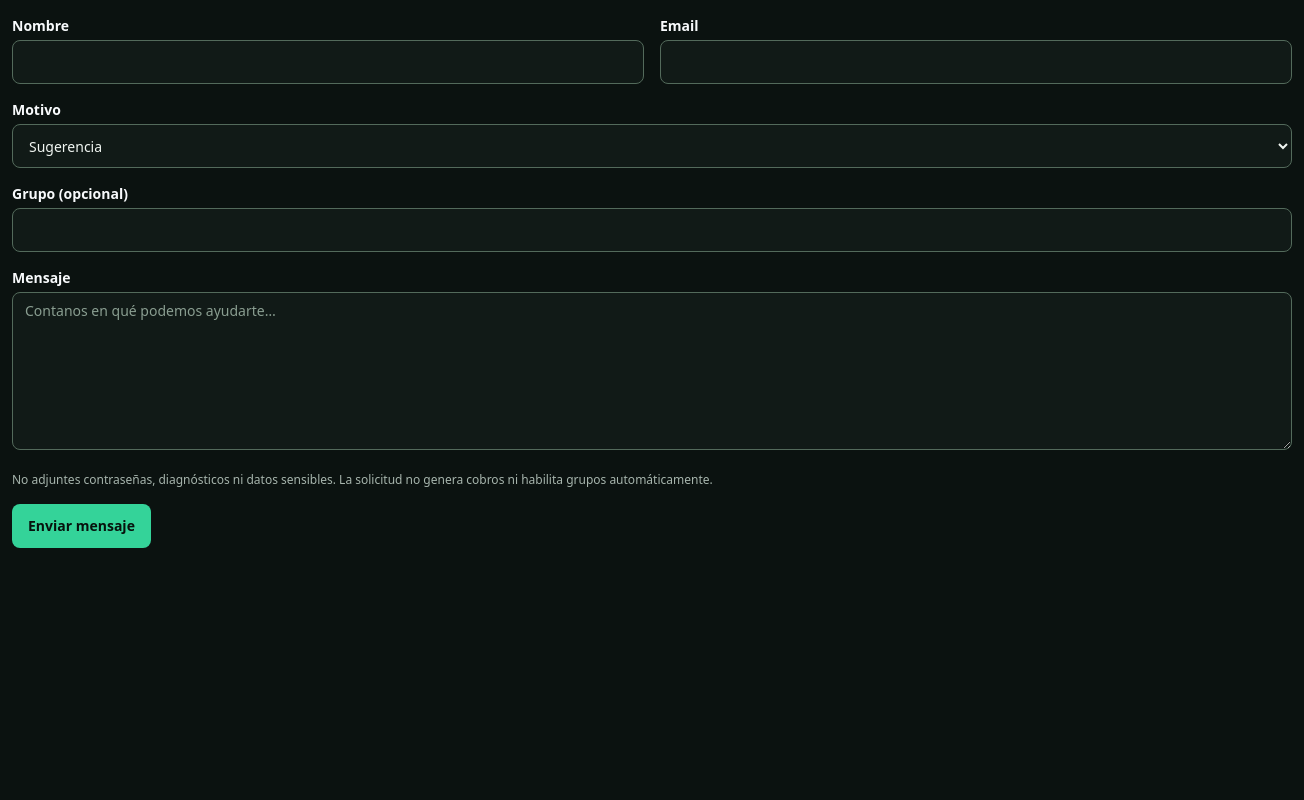
Test: formulario de Contacto › asocia el error del servidor al campo y permite corregirlo
The width and height of the screenshot is (1304, 800).
Type "A" into the field labelled "Nombre" at (328, 62), box [12, 40, 644, 84]
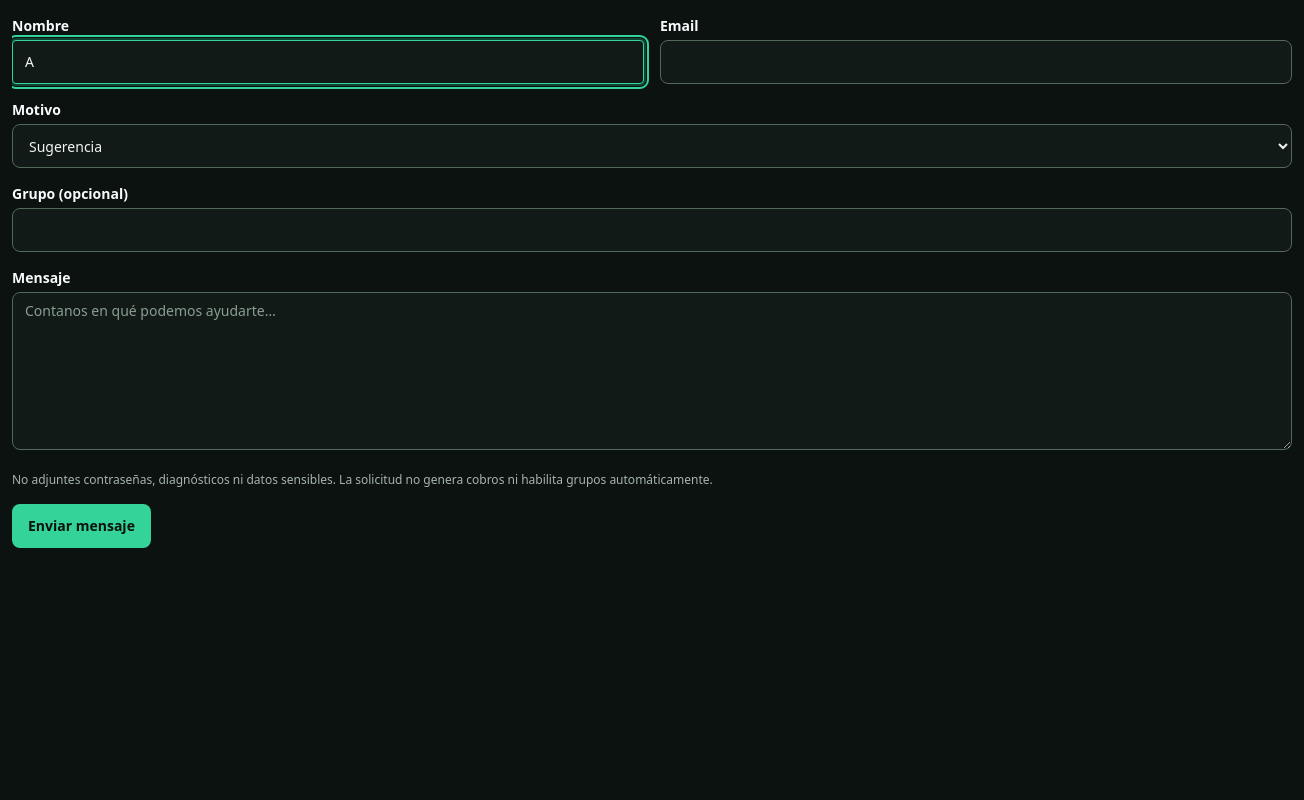
Type "ana@example.test" into the field labelled "Email" at (976, 62), box [660, 40, 1292, 84]
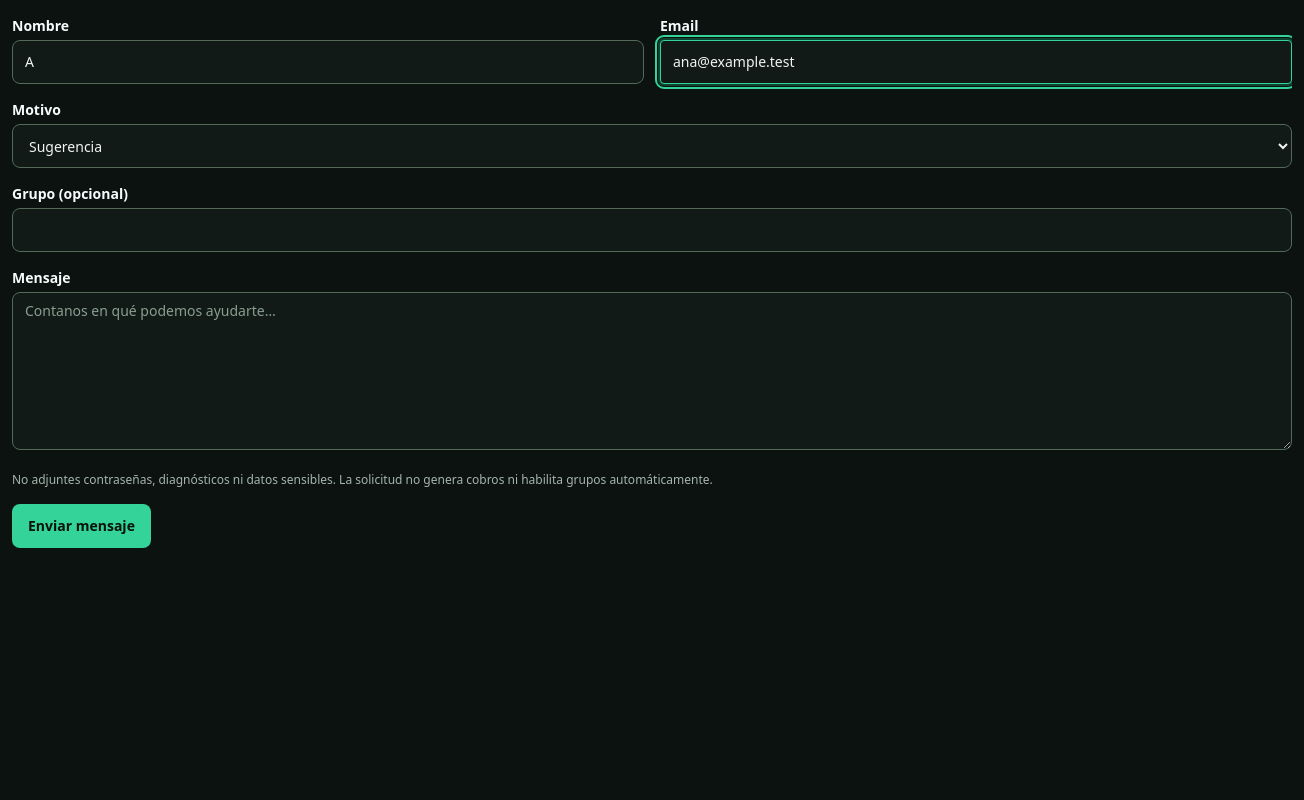
Type "Quiero hacer una consulta." into the text box labelled "Mensaje" at (652, 371), box [12, 292, 1292, 450]
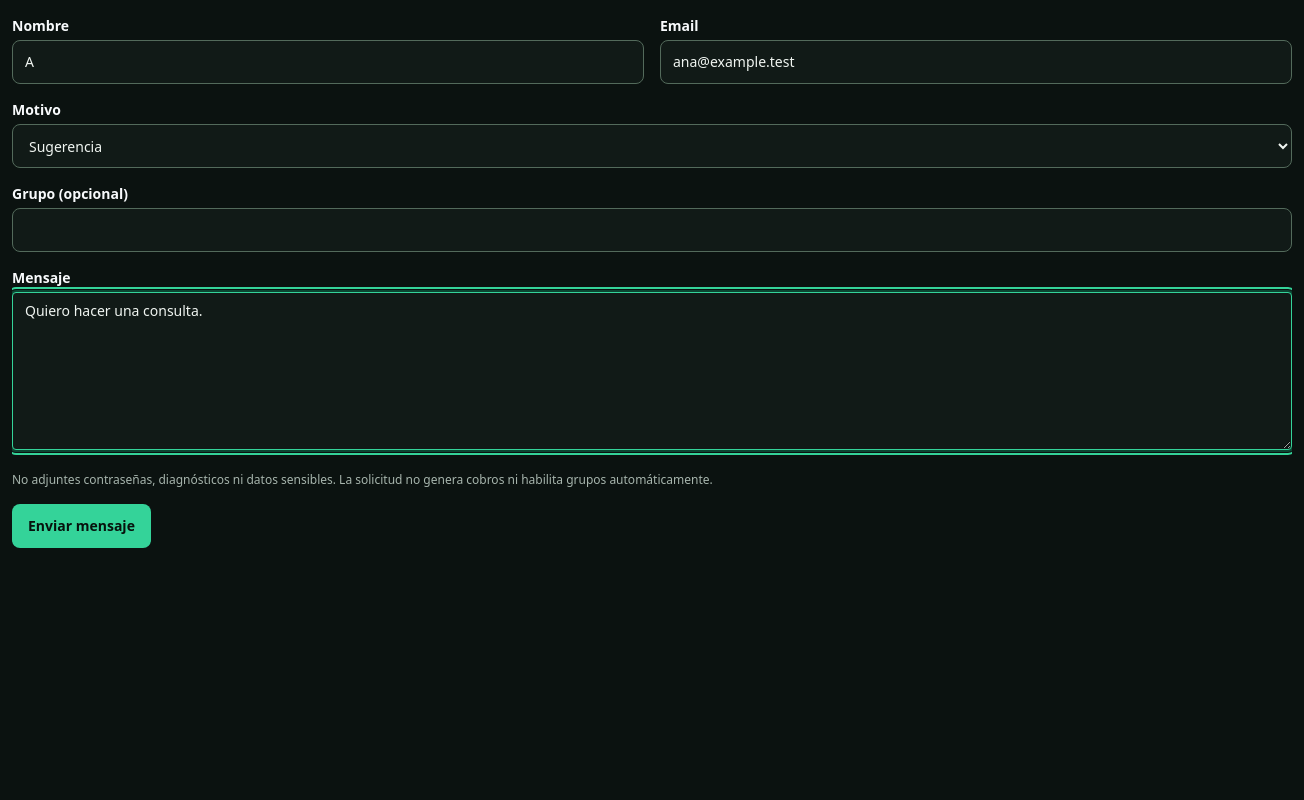
Click the button "Enviar mensaje" at (81, 526), box [12, 504, 151, 548]
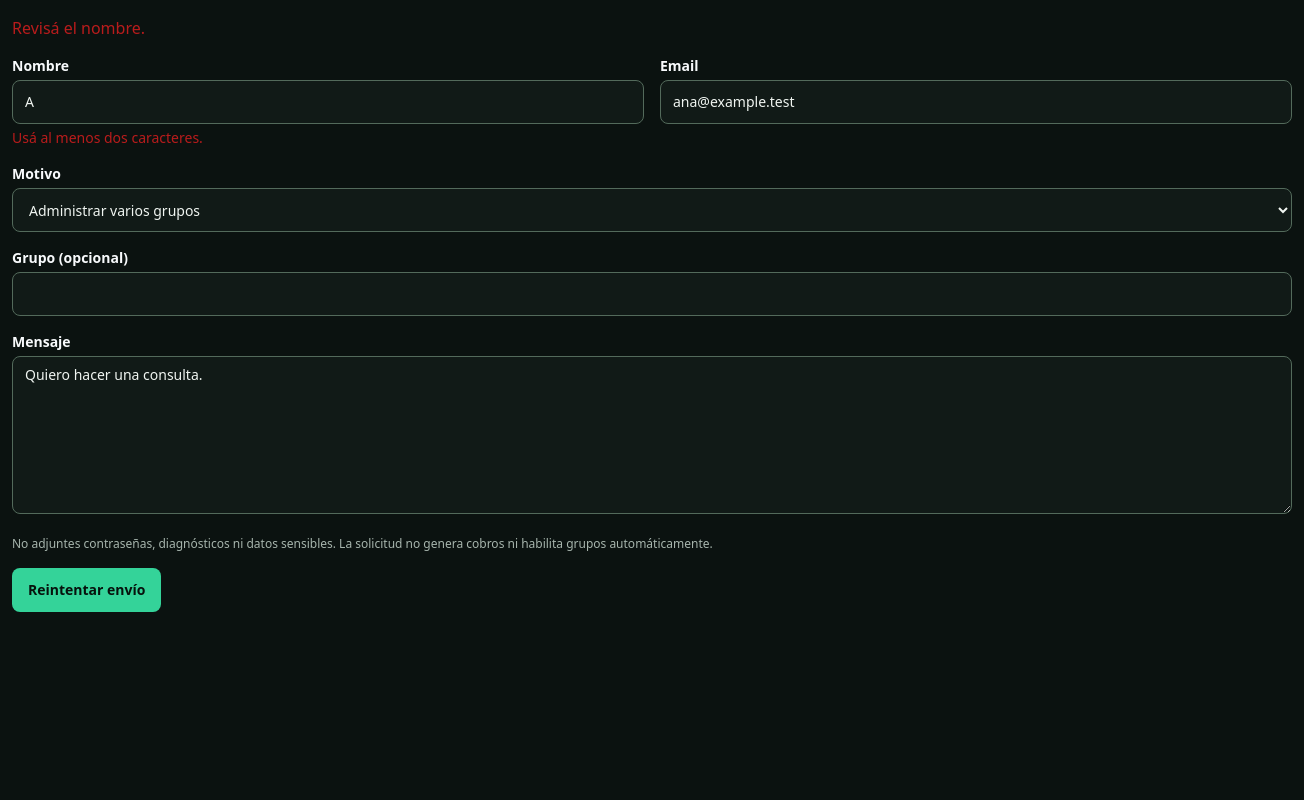
Expected: the field labelled "Nombre" is marked as invalid
Type "na" into the field labelled "Nombre" at (328, 102), box [12, 80, 644, 124]
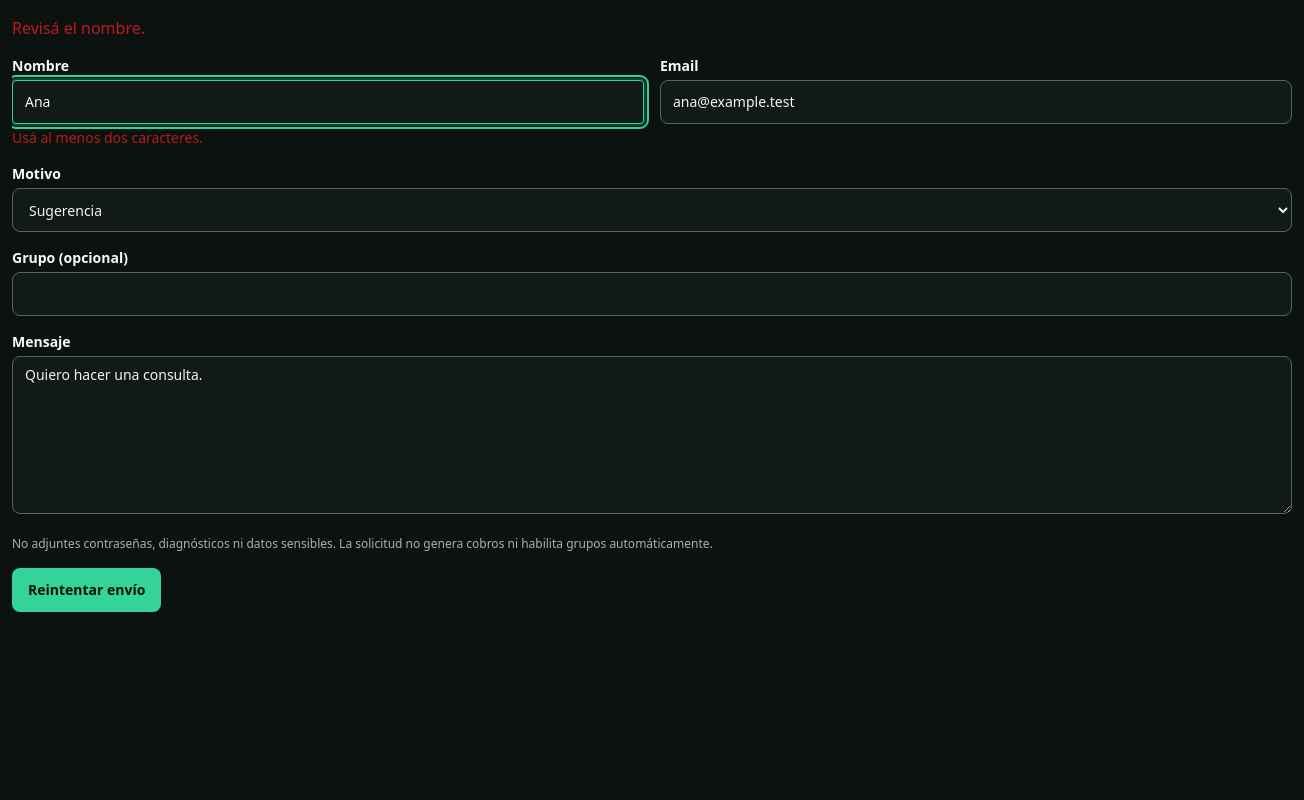
Expected: the field labelled "Nombre" holds "Ana", [12, 80, 644, 124]
